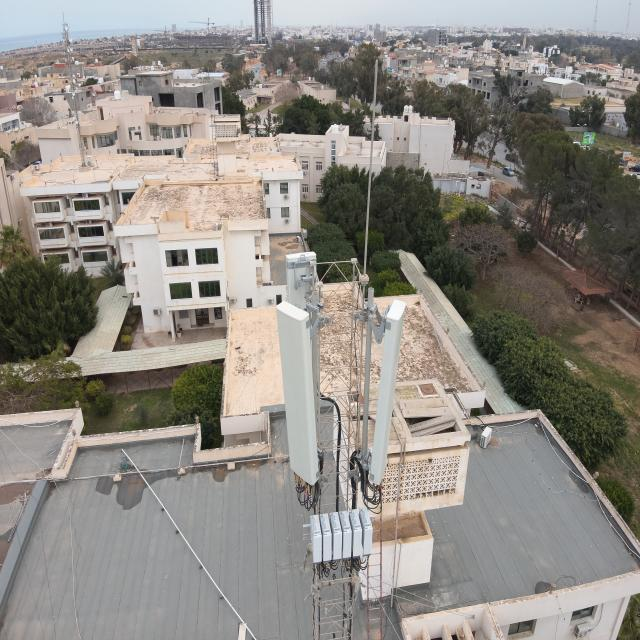antenna: (276, 300, 328, 493), (278, 246, 326, 435), (367, 296, 412, 492)
lighnig-rad: (362, 55, 380, 280)
radio-unit: (306, 504, 374, 568)
